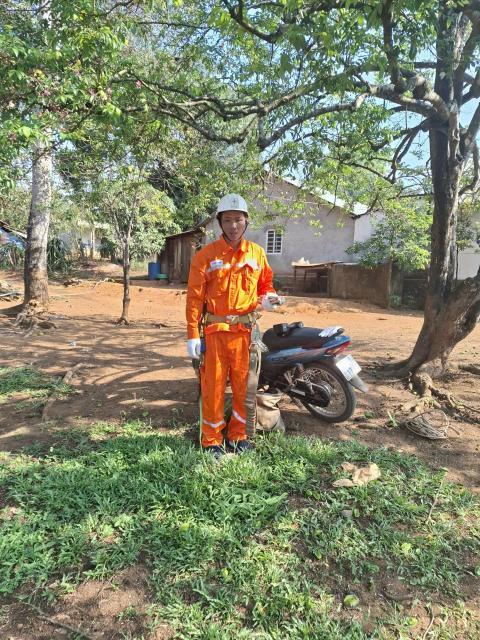gloves: (171, 335, 212, 368), (265, 287, 288, 314)
harness: (198, 299, 274, 337)
helmet: (205, 188, 261, 224)
shoes: (227, 434, 260, 460), (208, 437, 227, 462)
